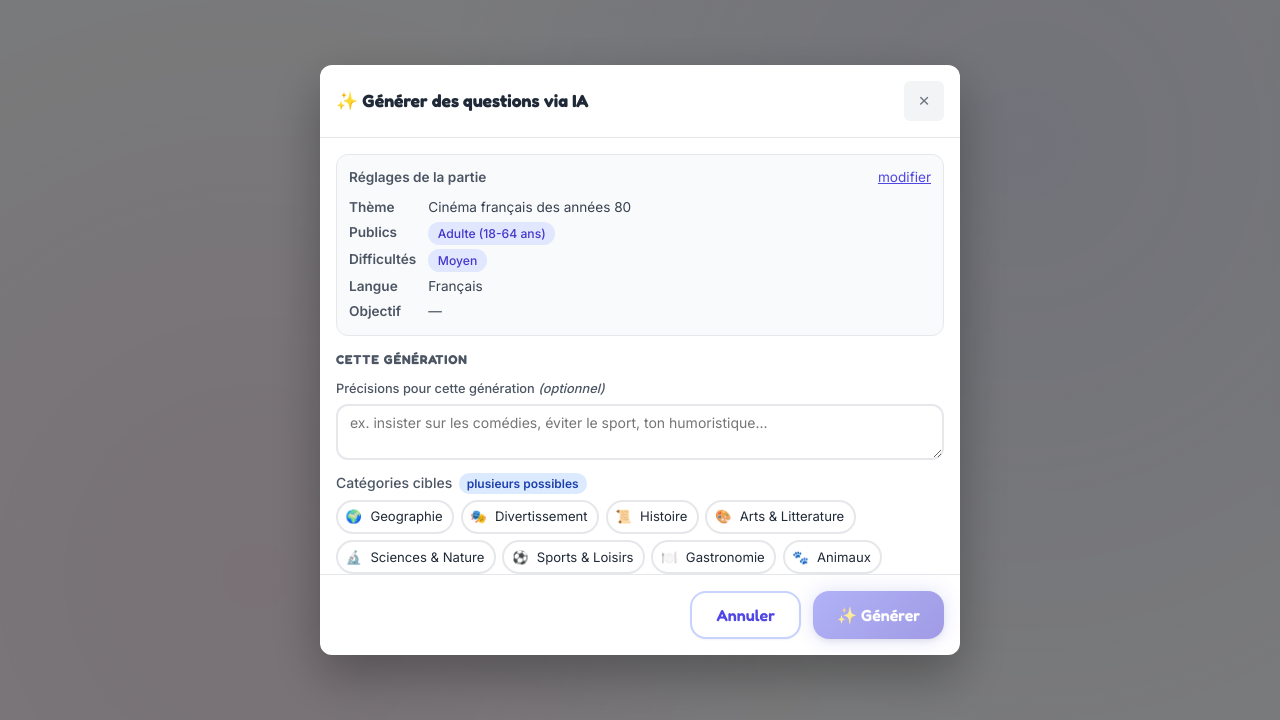
Test: AIGenerateModal — soumission asynchrone (contrat ai-multi-provider.md §9) › 202 + job_id shows the loading panel and starts tracking the job (no more synchronous result)
This screenshot has width=1280, height=720.
What coordinates should you click on to do the following:
click the text "Divertissement"
I would click on:
 (541, 517)
Its box is [495,506,588,527].
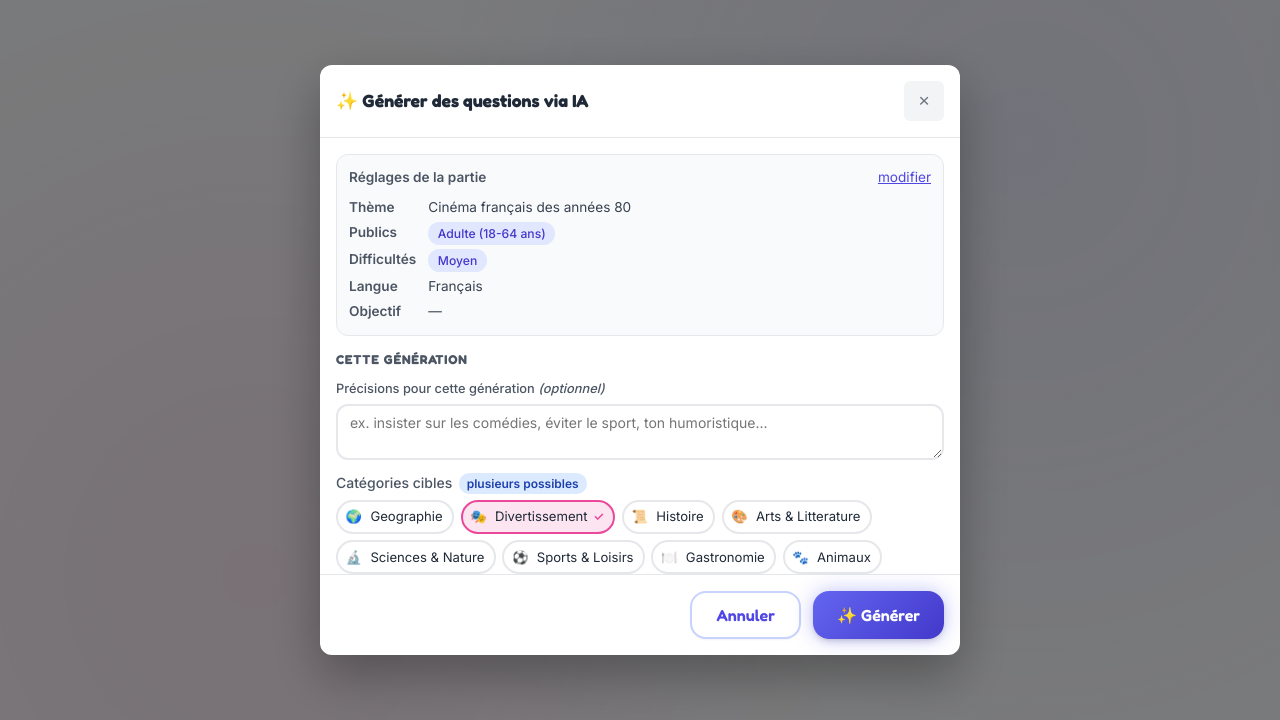
What coordinates should you click on to do the following:
click the button "✨ Générer"
I would click on:
 (878, 615)
Its box is [813,591,944,639].
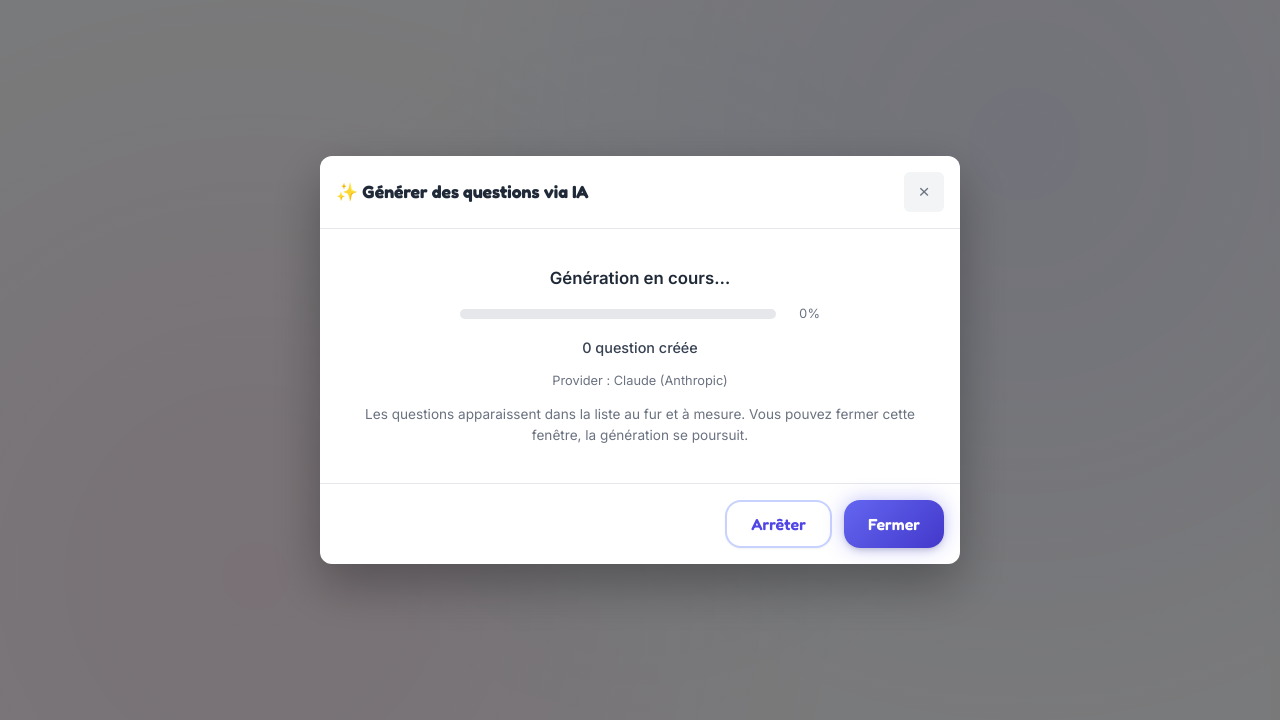
Result: the text "Génération en cours…" is shown at [550,265,730,292]
